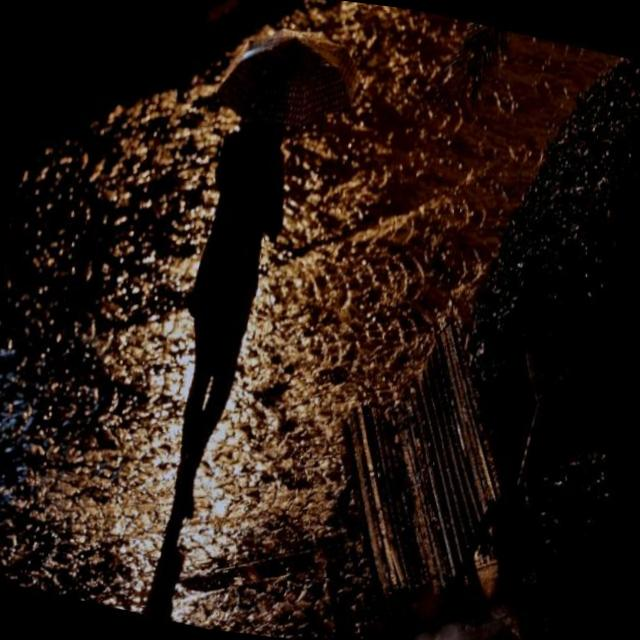person: (129, 106, 332, 527)
